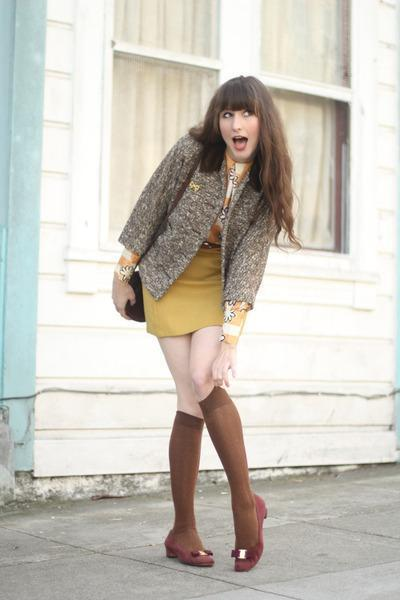bag: (124, 271, 144, 321)
jacket: (119, 132, 275, 337)
shoe: (164, 533, 262, 571)
skirt: (143, 252, 226, 345)
